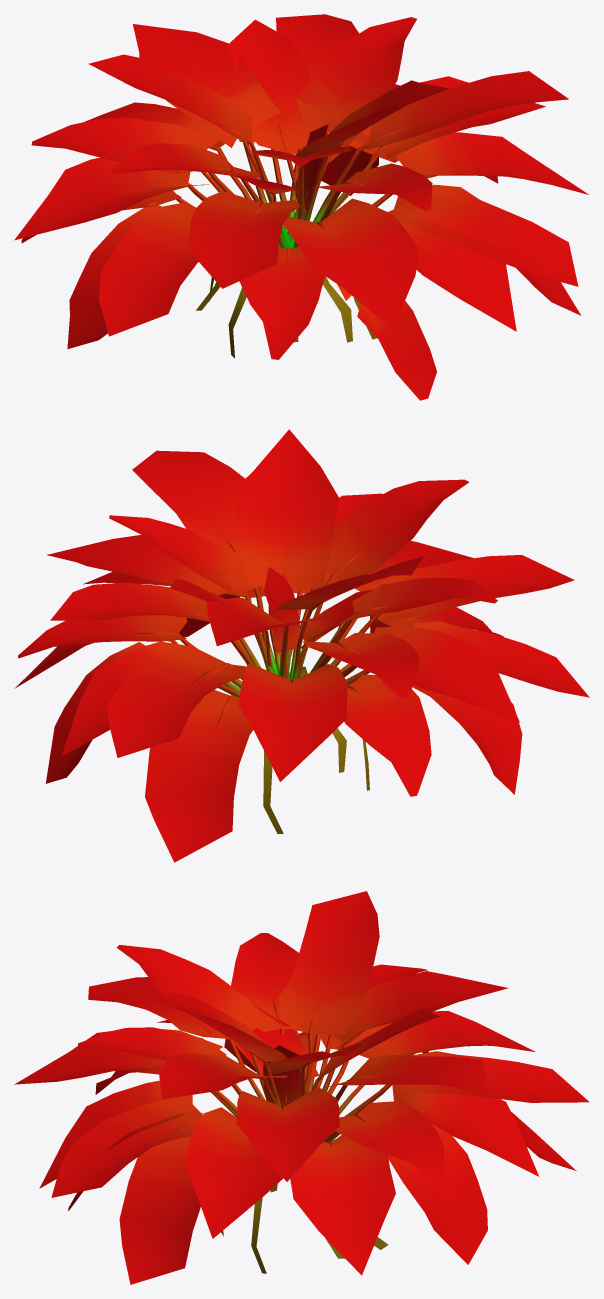
Rendered from Xanadu_LOD1_Var4_siroZ.fbx.
The picture shows the model from 3 angles, top to bottom: view 1: azimuth 30°, elevation 25°; view 2: azimuth 150°, elevation 25°; view 3: azimuth 270°, elevation 25°; orthographic projection. The views are drawn at different scales.
Parts seen in each view (by area): view 1: _39b3_Var4_LOD1; view 2: _39b3_Var4_LOD1; view 3: _39b3_Var4_LOD1.
Part boxes in pixels (<box>): _39b3_Var4_LOD1: <box>14,14,588,400</box>; _39b3_Var4_LOD1: <box>14,429,589,862</box>; _39b3_Var4_LOD1: <box>14,891,589,1284</box>.
Size of the model in its own units: 68.79 by 37.88 by 72.68.
